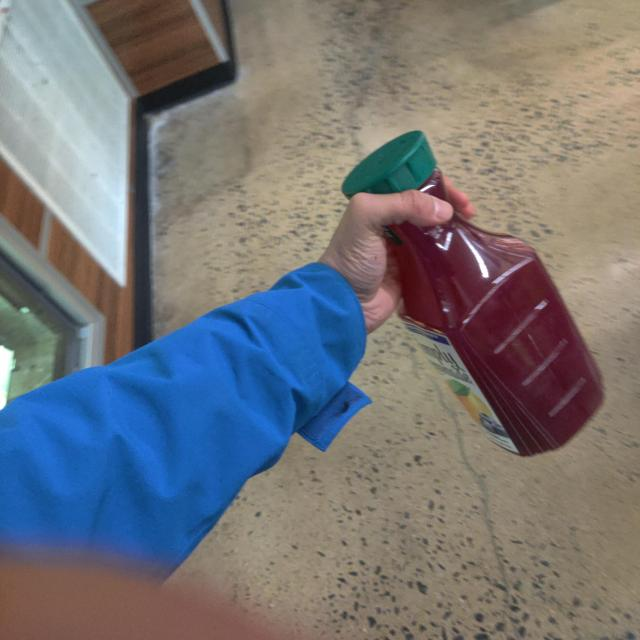Juice: (321, 130, 629, 460)
